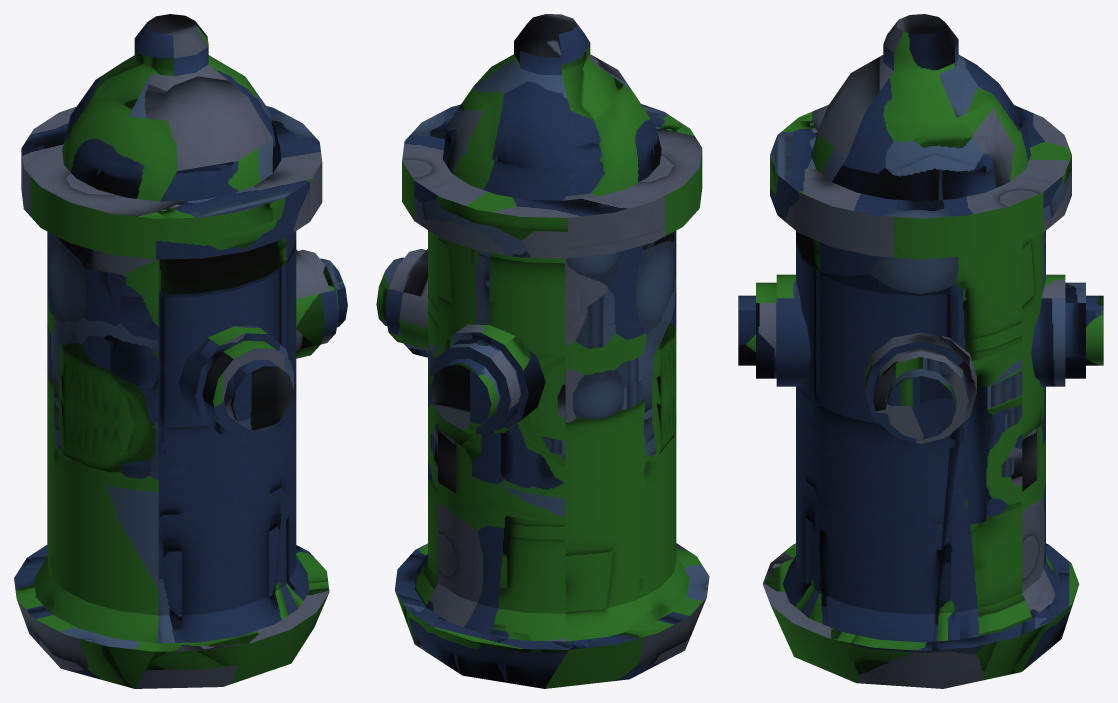
Rendered from 13_CityB_FIre_Hydrant_v1.obj.
The picture shows the model from 3 angles, left to right: view 1: azimuth 30°, elevation 25°; view 2: azimuth 150°, elevation 25°; view 3: azimuth 270°, elevation 25°; orthographic projection.
Parts seen in each view (by area): view 1: Fire_Hydrant2; view 2: Fire_Hydrant2; view 3: Fire_Hydrant2.
Boxes of the visible parts, bbox=[...] form: Fire_Hydrant2: bbox=[14, 14, 347, 688]; Fire_Hydrant2: bbox=[376, 14, 709, 688]; Fire_Hydrant2: bbox=[738, 14, 1103, 688].
Bounding box in the file's own units: 1.25 × 2.45 × 1.34.
